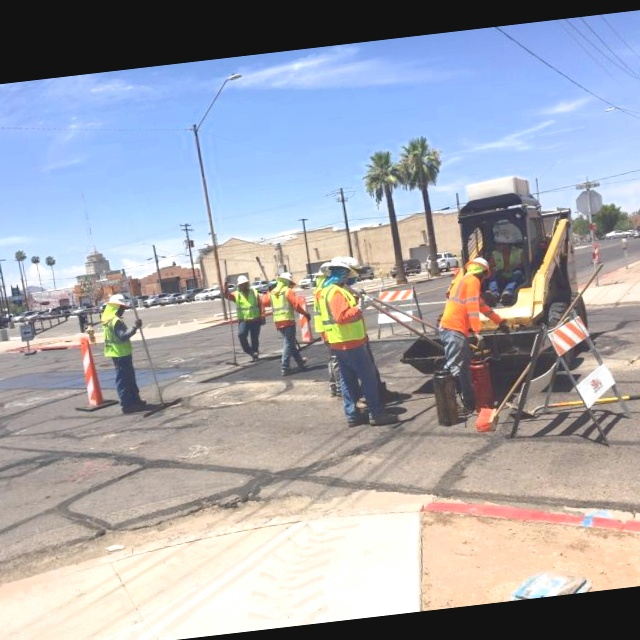Con_Casco: (320, 255, 359, 281), (105, 292, 129, 312), (275, 272, 296, 286), (235, 274, 250, 290)
Con_Chaleco: (320, 280, 364, 344), (436, 274, 485, 331), (100, 316, 133, 358), (264, 285, 299, 323), (232, 288, 262, 322)
